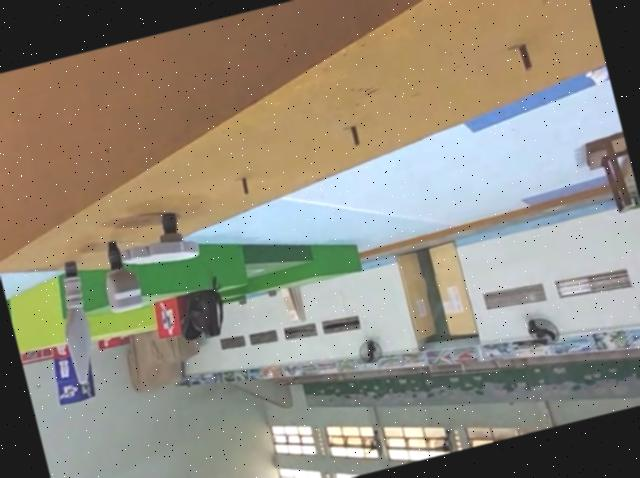Fist: (89, 237, 146, 318)
Hand: (109, 207, 203, 277)
Sph: (41, 257, 107, 385)
